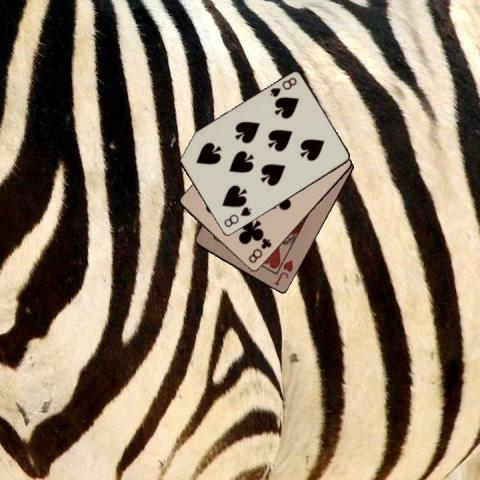8c: (246, 235, 274, 265)
8s: (221, 204, 253, 229), (267, 74, 298, 98)
Jh: (271, 258, 294, 288)
